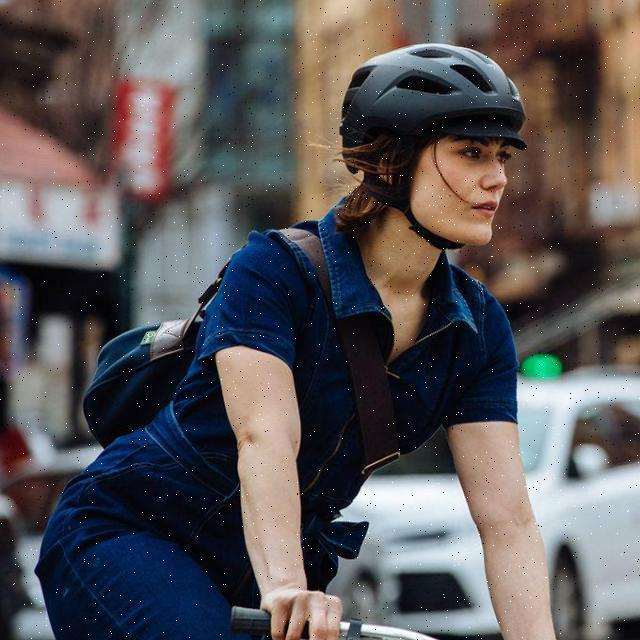helmet: (338, 38, 532, 256)
